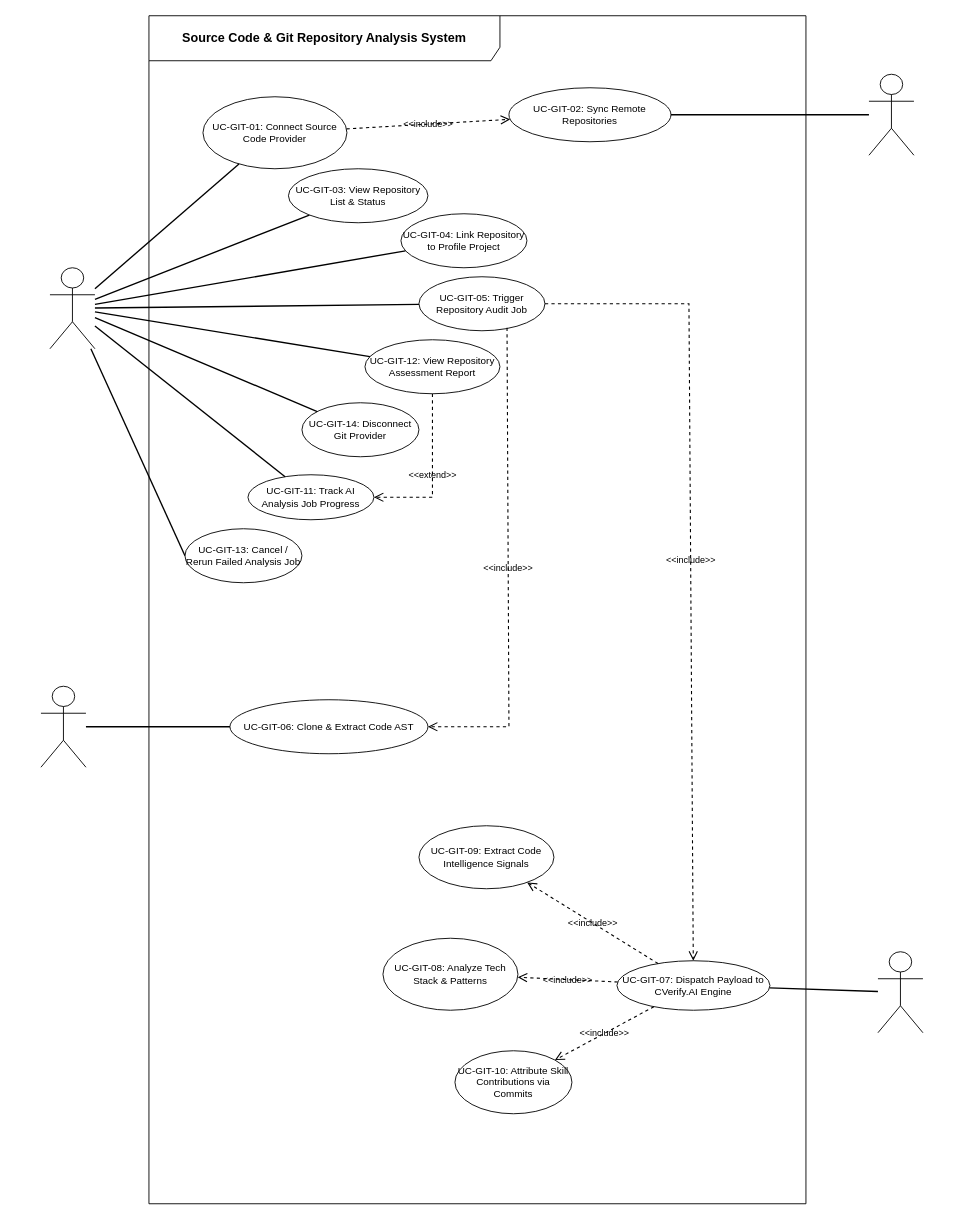
This 975x1220 diagram has some shape labels left out. The shapes that lost their labels are listed below. From the top down, each one's centre as x and y in pixels, then its label:
the point at 891,114: Git Provider (GitHub/GitLab)
the point at 72,308: Candidate
the point at 63,726: Background Worker
the point at 900,992: CVerify.AI Engine
